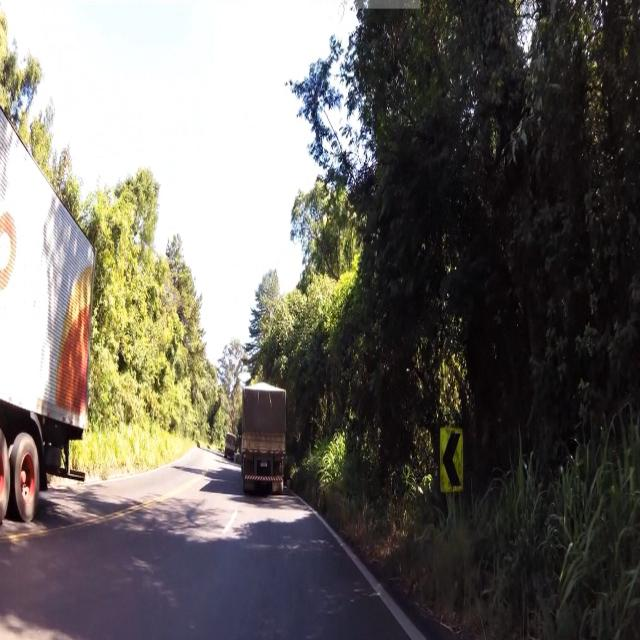Del: (440, 426, 464, 492)
